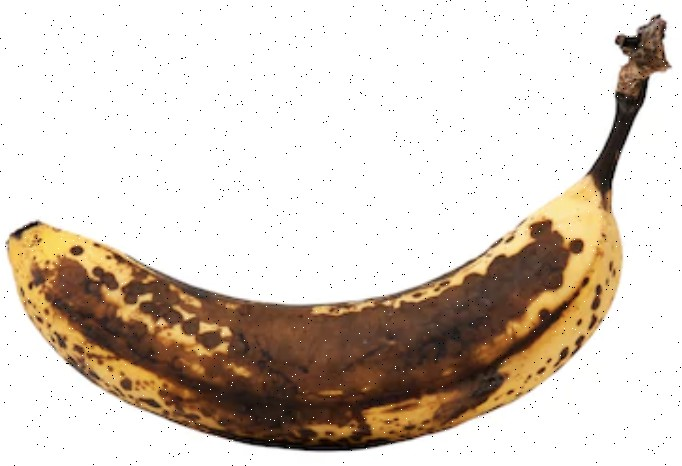rotten_banana: (8, 14, 672, 453)
